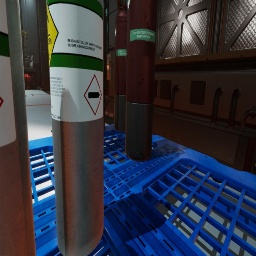0: (46, 0, 104, 256), (0, 0, 36, 256)
FireExtinguisher ]: (26, 86, 30, 90)
NitrogenTank ,: (124, 0, 158, 161), (114, 0, 127, 132), (104, 7, 105, 133)
SafetySwitchPanel ,: (107, 53, 113, 80)
